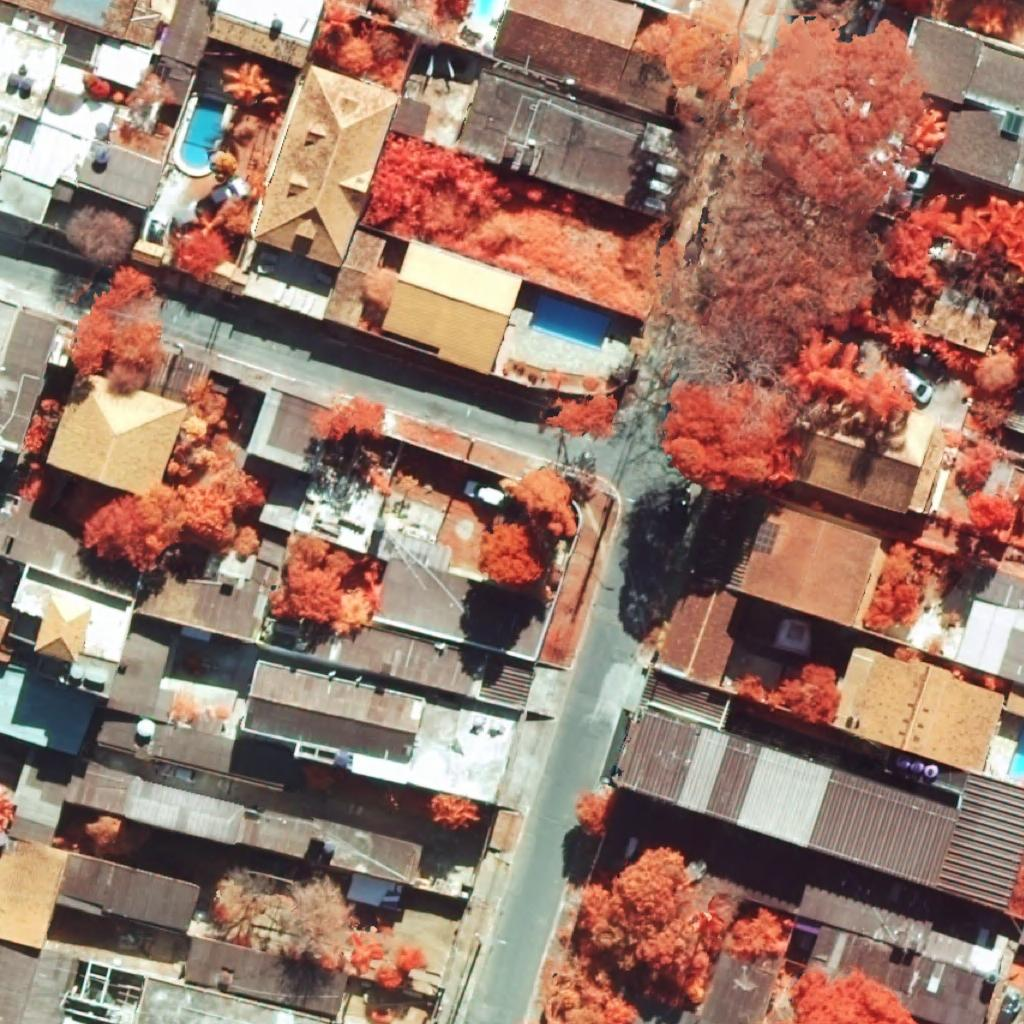pool: (528, 293, 612, 351), (180, 96, 226, 169), (1007, 726, 1024, 777), (475, 0, 495, 17)
